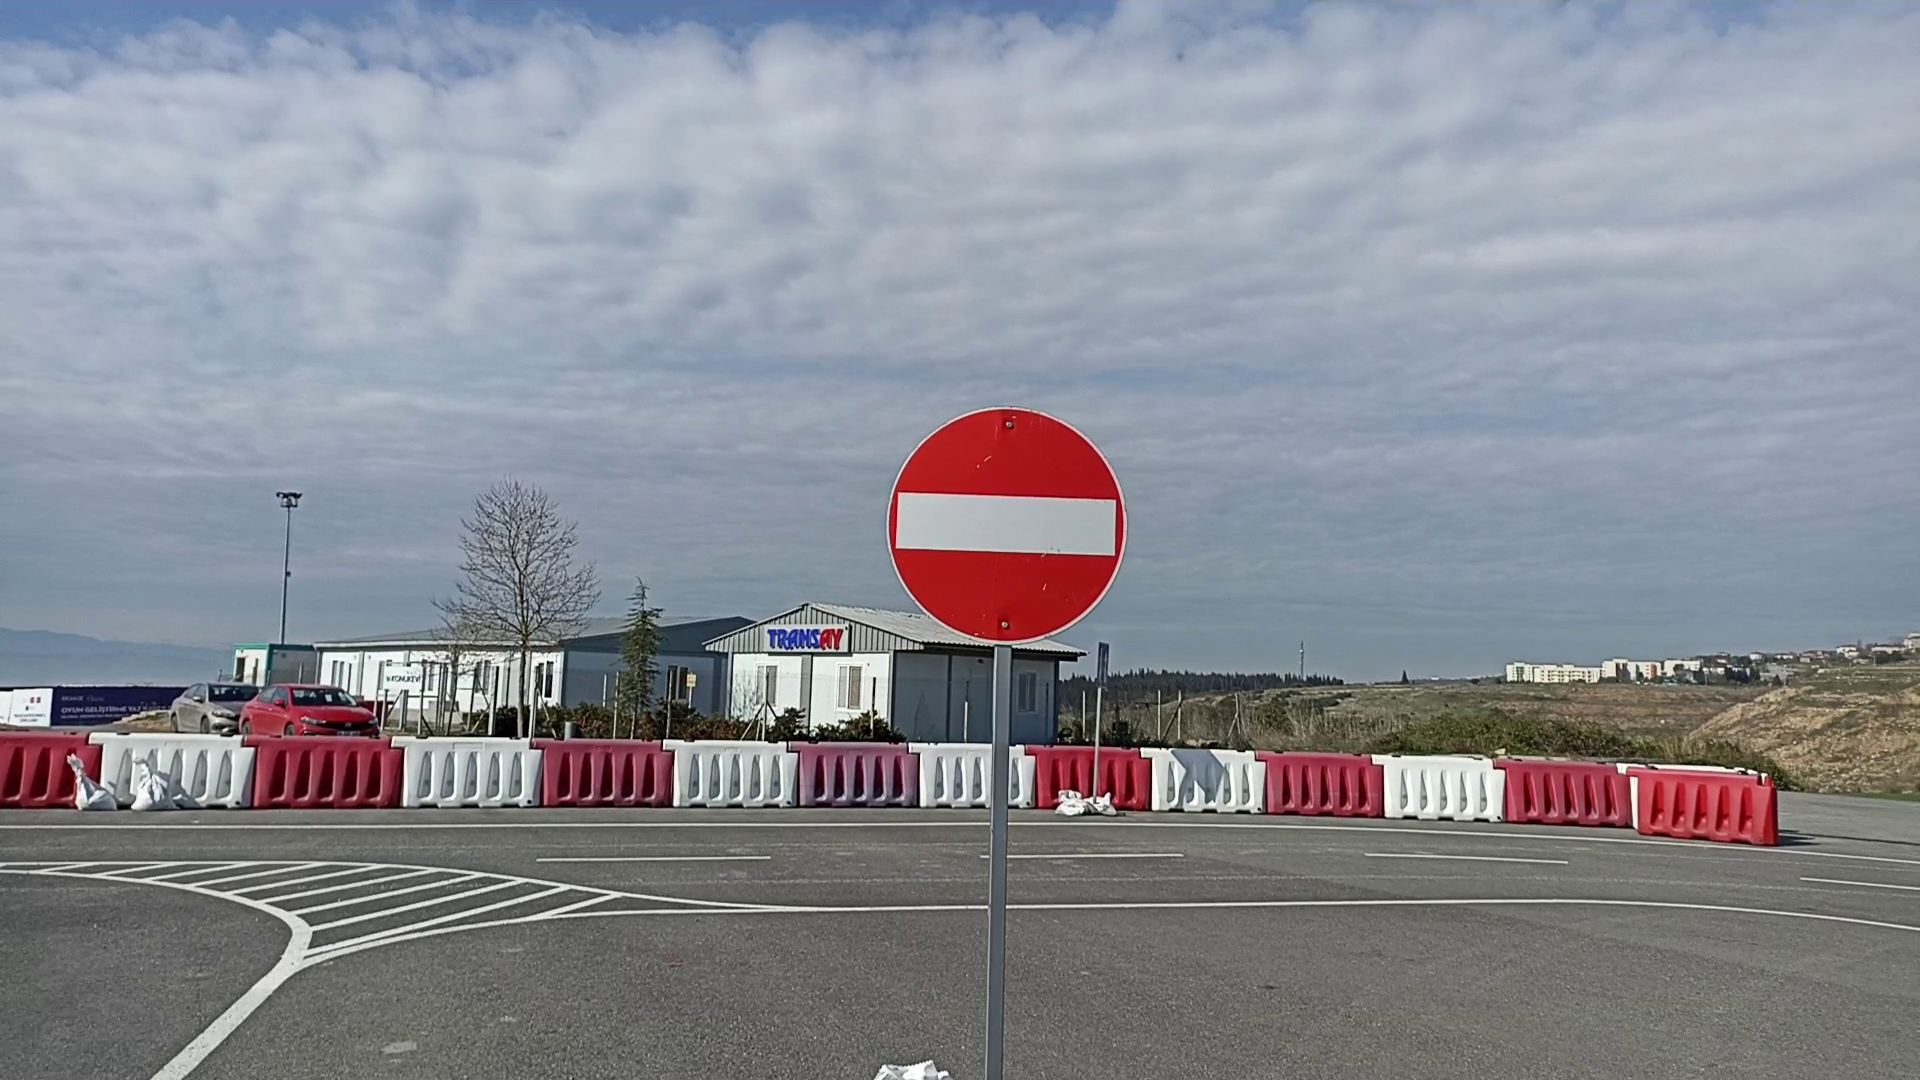noentryway: (881, 400, 1133, 647)
